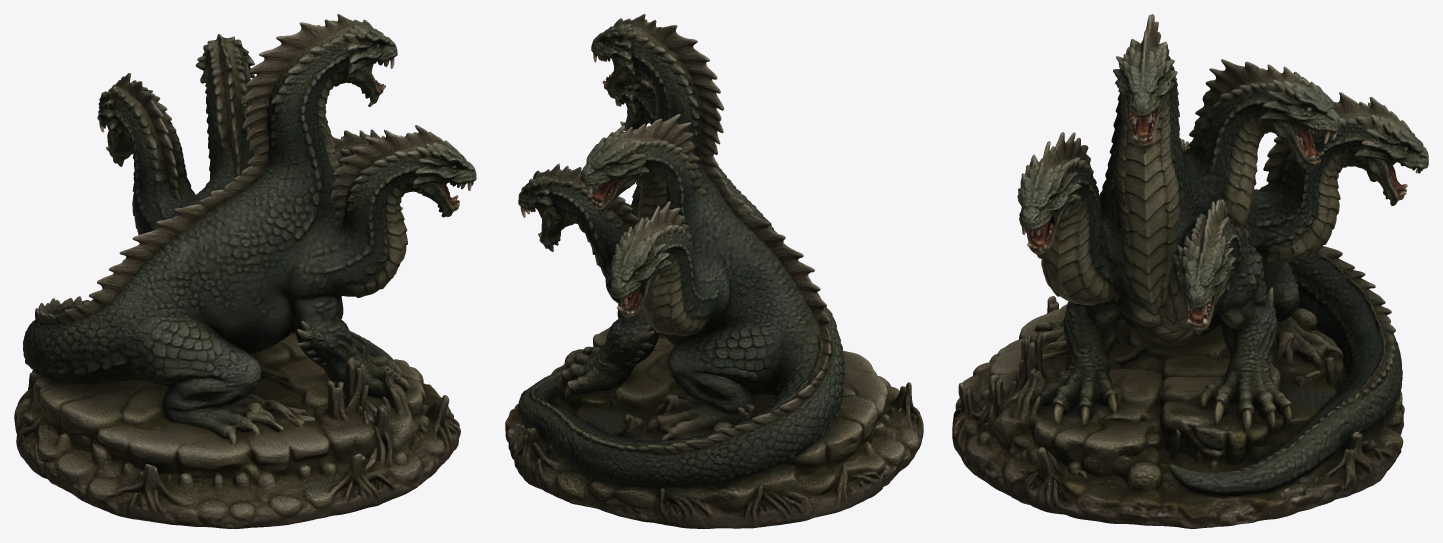
Rendered from compress_segwwzlybbw9-qt8.glb.
3 renders of one model, left to right at view 1: azimuth 30°, elevation 25°; view 2: azimuth 150°, elevation 25°; view 3: azimuth 270°, elevation 25°, orthographic. The views are drawn at different scales.
Visible parts, largest first — view 1: tripo_node_23a3c26c-c9d7-4687-b8e1-e9b07f06daff; view 2: tripo_node_23a3c26c-c9d7-4687-b8e1-e9b07f06daff; view 3: tripo_node_23a3c26c-c9d7-4687-b8e1-e9b07f06daff.
Part boxes in pixels (x1=…): tripo_node_23a3c26c-c9d7-4687-b8e1-e9b07f06daff: x1=14, y1=14, x2=476, y2=528; tripo_node_23a3c26c-c9d7-4687-b8e1-e9b07f06daff: x1=505, y1=14, x2=923, y2=528; tripo_node_23a3c26c-c9d7-4687-b8e1-e9b07f06daff: x1=952, y1=14, x2=1428, y2=528.
Size of the model in its own units: 0.9613 by 1 by 0.9738.
Materials: 1 (1 with a texture image).
